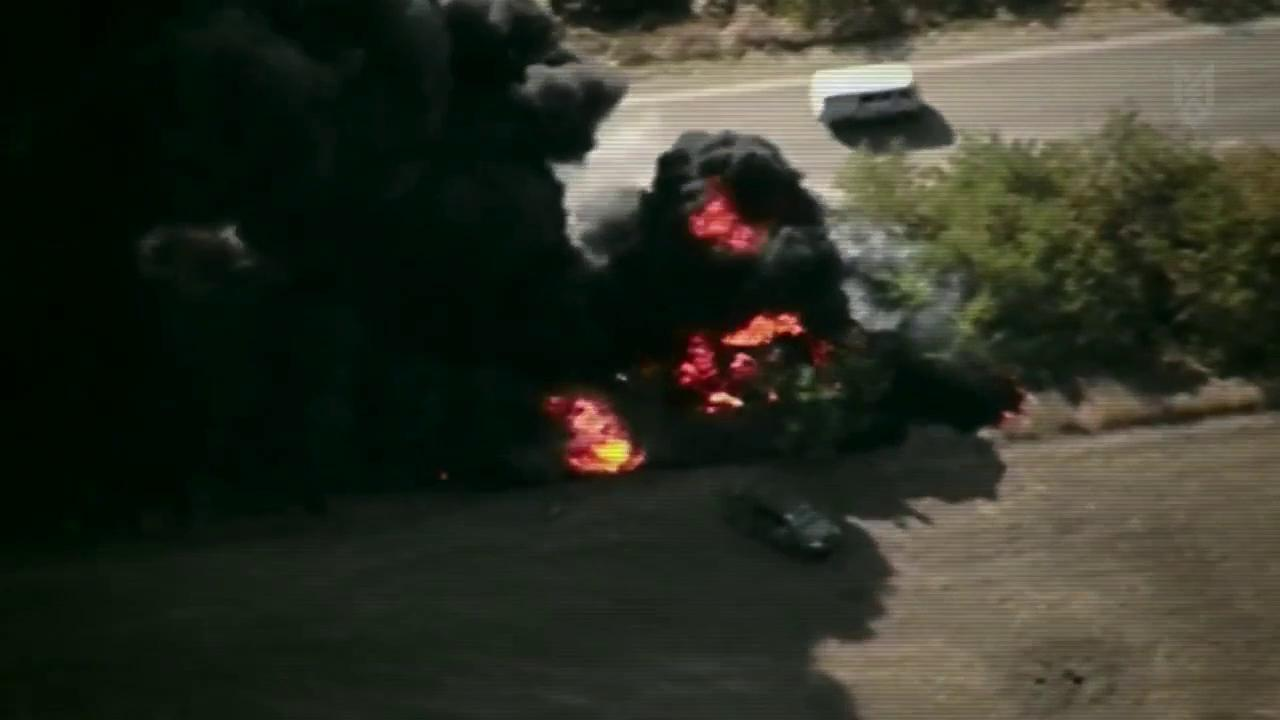tank: (723, 470, 847, 564)
